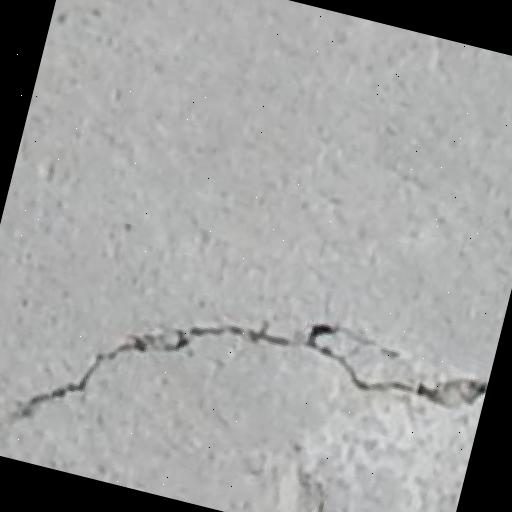spalling: (0, 316, 482, 441)
